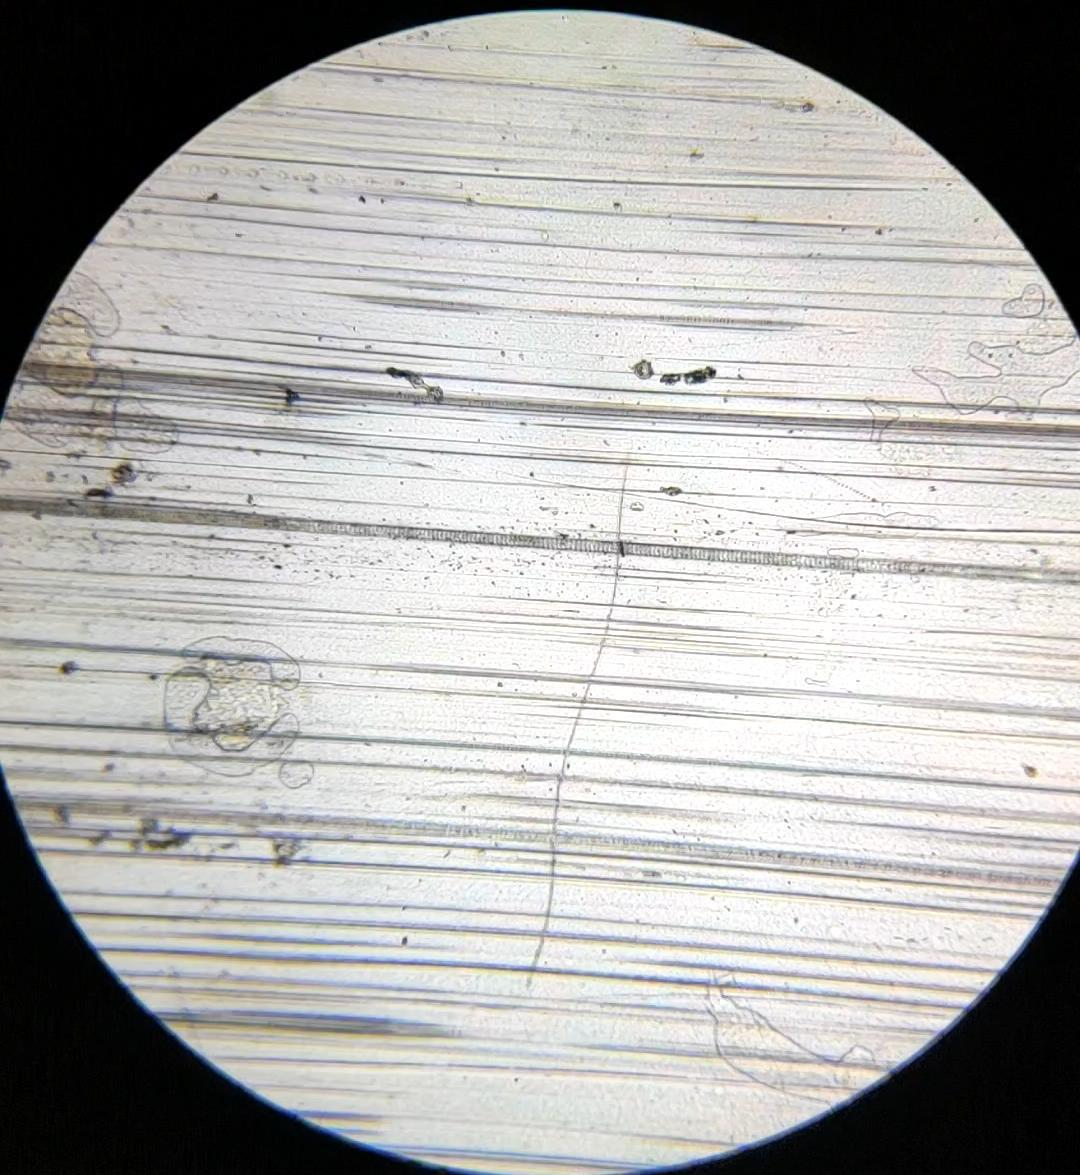Do: (701, 964, 890, 1108)
